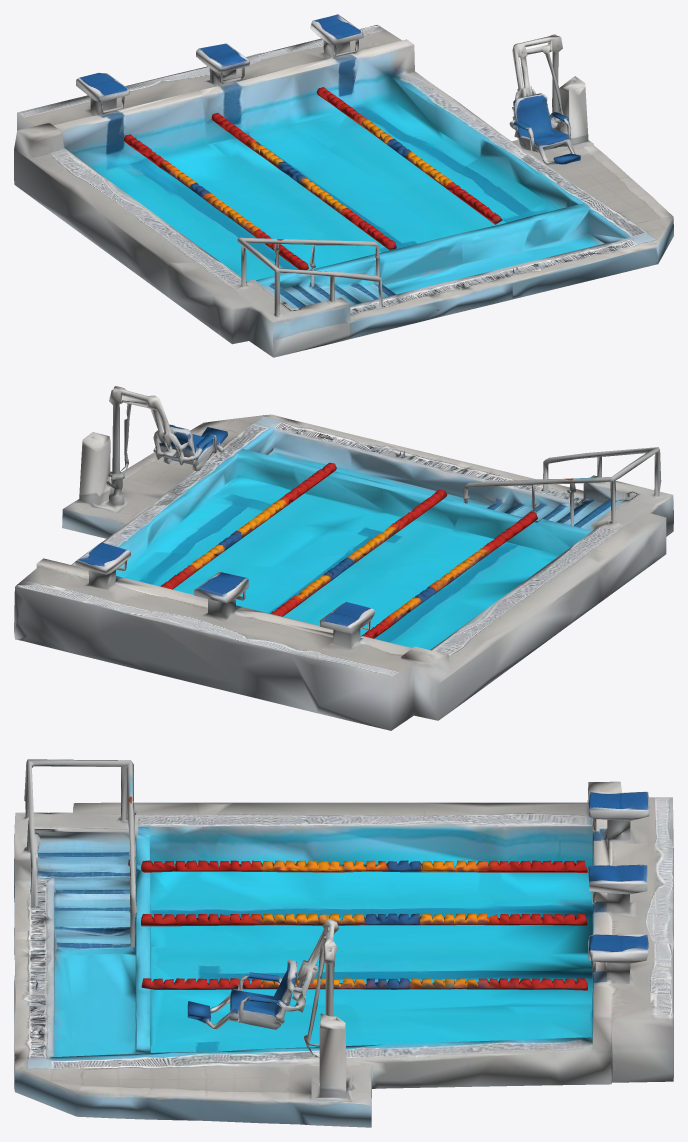
The model's file is pool.glb.
3 renders of one model, top to bottom at view 1: azimuth 30°, elevation 25°; view 2: azimuth 150°, elevation 25°; view 3: azimuth 270°, elevation 25°, orthographic. The views are drawn at different scales.
Visible parts, largest first — view 1: tripo_node_e9b25677-1375-4fbf-9522-dacb47f4bc9f; view 2: tripo_node_e9b25677-1375-4fbf-9522-dacb47f4bc9f; view 3: tripo_node_e9b25677-1375-4fbf-9522-dacb47f4bc9f.
Part boxes in pixels (bbox=[...]): tripo_node_e9b25677-1375-4fbf-9522-dacb47f4bc9f: bbox=[14, 14, 673, 357]; tripo_node_e9b25677-1375-4fbf-9522-dacb47f4bc9f: bbox=[14, 386, 673, 730]; tripo_node_e9b25677-1375-4fbf-9522-dacb47f4bc9f: bbox=[14, 759, 673, 1127].
Bounding box in the file's own units: 0.9989 × 0.2794 × 0.9911.
1 material, 1 textured.
